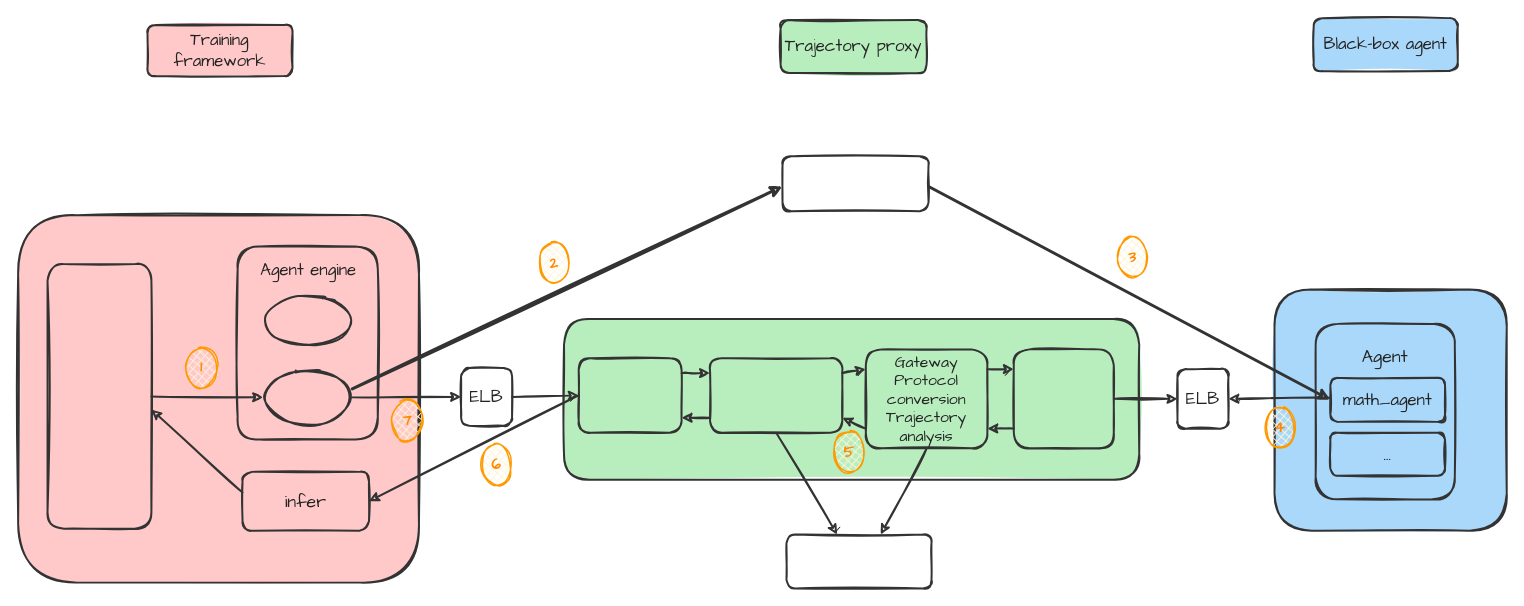
This 1524x606 diagram has some shape labels left out. The shapes that lost their labels are listed below. From the top down, each one's centre as x and y in pixels, then its label:
the point at 855,183: kafka
the point at 307,320: White-box
the point at 99,396: train
the point at 307,397: Black-box
the point at 629,395: Bridge Reverse proxy
the point at 776,395: TrajProxy Trajectory stitching management
the point at 1063,398: Nginx HTTP parsing Trajectory analysis
the point at 858,561: PostgreSQL
